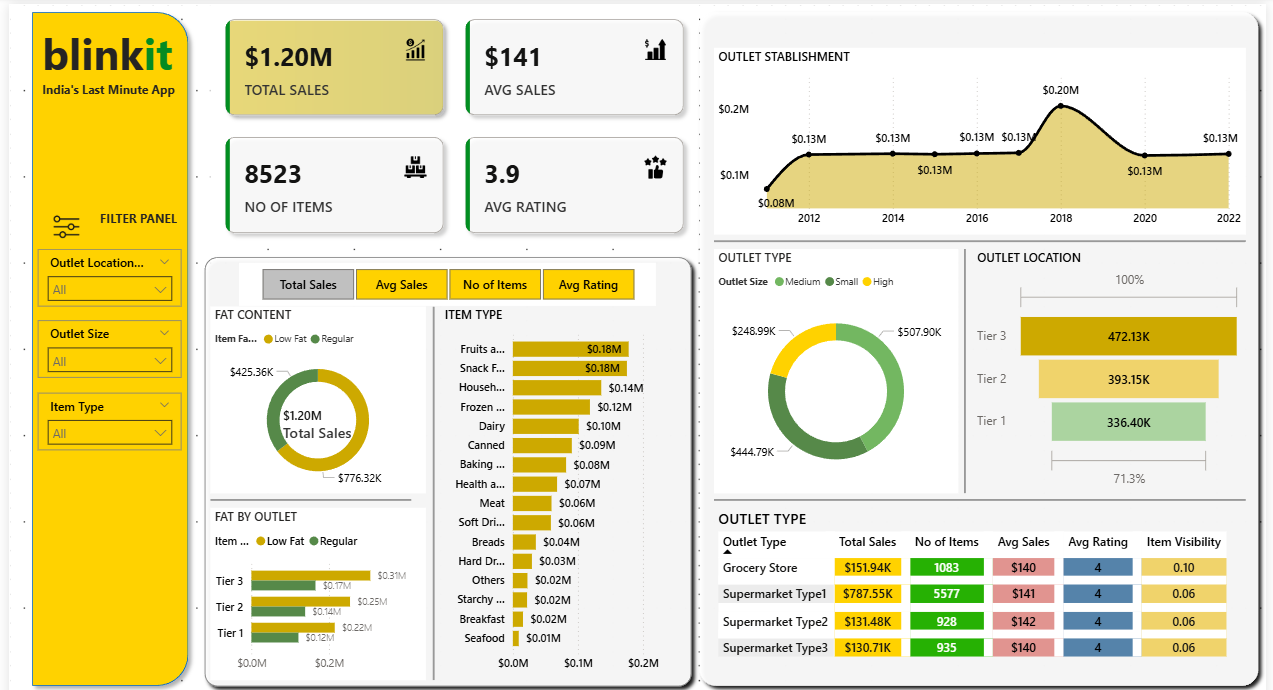

The dashboard page shown, as its layout file describes it:
{"tool":"powerbi","page":{"name":"Page 1","canvas":[1400,800],"ordinal":0},"visuals":[{"type":"shape","box":[16,0,192,768],"z":0},{"type":"textbox","box":[32,16,176,80],"z":1000},{"type":"textbox","box":[32,80,160,32],"z":2000},{"type":"cardVisual","fields":{"Data":["BlinkIT Grocery Data.Total Sales","BlinkIT Grocery Data.Avg Sales","BlinkIT Grocery Data.No of Items","BlinkIT Grocery Data.Avg Rating"]},"box":[224,0,544,272],"z":3000},{"type":"shape","box":[208,272,560,496],"z":4000},{"type":"donutChart","title":"FAT CONTENT","fields":{"Y":["BlinkIT Grocery Data.Total Sales"],"Category":["BlinkIT Grocery Data.Item Fat Content"]},"box":[224,336,240,208],"z":5000},{"type":"cardVisual","fields":{"Data":["BlinkIT Grocery Data.Total Sales"]},"box":[288,432,112,64],"z":6000},{"type":"slicer","fields":{"Values":["metrics.metrics"]},"box":[256,288,464,48],"z":7000},{"type":"clusteredBarChart","title":"FAT BY OUTLET","fields":{"Y":["BlinkIT Grocery Data.Total Sales"],"Category":["BlinkIT Grocery Data.Outlet Location Type"],"Series":["BlinkIT Grocery Data.Item Fat Content"]},"box":[224,560,240,192],"z":8000},{"type":"shape","box":[224,544,224,16],"z":9000},{"type":"shape","box":[464,336,16,416],"z":10000},{"type":"barChart","title":" ITEM TYPE","fields":{"Y":["BlinkIT Grocery Data.Total Sales"],"Category":["BlinkIT Grocery Data.Item Type"]},"box":[480,336,272,416],"z":11000},{"type":"shape","box":[760,0,640,768],"z":12000},{"type":"lineChart","title":"OUTLET STABLISHMENT ","fields":{"Category":["BlinkIT Grocery Data.Outlet Establishment Year"],"Y":["BlinkIT Grocery Data.Total Sales"]},"box":[784,48,592,208],"z":13000},{"type":"shape","box":[1056,272,16,272],"z":14000},{"type":"shape","box":[784,256,592,16],"z":15000},{"type":"donutChart","title":"OUTLET TYPE","fields":{"Y":["BlinkIT Grocery Data.Total Sales"],"Category":["BlinkIT Grocery Data.Outlet Size"]},"box":[784,272,272,272],"z":16000},{"type":"funnel","title":"OUTLET LOCATION","fields":{"Y":["Sum(BlinkIT Grocery Data.Sales)"],"Category":["BlinkIT Grocery Data.Outlet Location Type"]},"box":[1072,272,304,272],"z":17000},{"type":"shape","box":[784,544,592,16],"z":18000},{"type":"pivotTable","title":"OUTLET TYPE","fields":{"Rows":["BlinkIT Grocery Data.Outlet Type"],"Values":["BlinkIT Grocery Data.Total Sales","BlinkIT Grocery Data.No of Items","BlinkIT Grocery Data.Avg Sales","BlinkIT Grocery Data.Avg Rating","Avg(BlinkIT Grocery Data.Item Visibility)"]},"box":[784,560,592,176],"z":19000},{"type":"slicer","fields":{"Values":["BlinkIT Grocery Data.Outlet Location Type"]},"box":[32,272,160,64],"z":20000},{"type":"slicer","fields":{"Values":["BlinkIT Grocery Data.Outlet Size"]},"box":[32,352,160,64],"z":21000},{"type":"slicer","fields":{"Values":["BlinkIT Grocery Data.Item Type"]},"box":[32,432,160,64],"z":22000},{"type":"textbox","box":[32,224,160,48],"z":23000},{"type":"image","box":[32,224,64,48],"z":24000}]}

Visuals, with their boxes on the page's 1400x800 design canvas (x1, y1, x2, y2). These are canvas units, not pixel positions in the 1273x690 screenshot, which may show the page scaled, cropped or inside an application window:
shape: (16,0,208,768)
textbox: (32,16,208,96)
textbox: (32,80,192,112)
cardVisual - BlinkIT Grocery Data.Total Sales x BlinkIT Grocery Data.Avg Sales: (224,0,768,272)
shape: (208,272,768,768)
"FAT CONTENT" donutChart: (224,336,464,544)
cardVisual - BlinkIT Grocery Data.Total Sales: (288,432,400,496)
slicer - metrics.metrics: (256,288,720,336)
"FAT BY OUTLET" clusteredBarChart: (224,560,464,752)
shape: (224,544,448,560)
shape: (464,336,480,752)
" ITEM TYPE" barChart: (480,336,752,752)
shape: (760,0,1400,768)
"OUTLET STABLISHMENT " lineChart: (784,48,1376,256)
shape: (1056,272,1072,544)
shape: (784,256,1376,272)
"OUTLET TYPE" donutChart: (784,272,1056,544)
"OUTLET LOCATION" funnel: (1072,272,1376,544)
shape: (784,544,1376,560)
"OUTLET TYPE" pivotTable: (784,560,1376,736)
slicer - BlinkIT Grocery Data.Outlet Location Type: (32,272,192,336)
slicer - BlinkIT Grocery Data.Outlet Size: (32,352,192,416)
slicer - BlinkIT Grocery Data.Item Type: (32,432,192,496)
textbox: (32,224,192,272)
image: (32,224,96,272)
